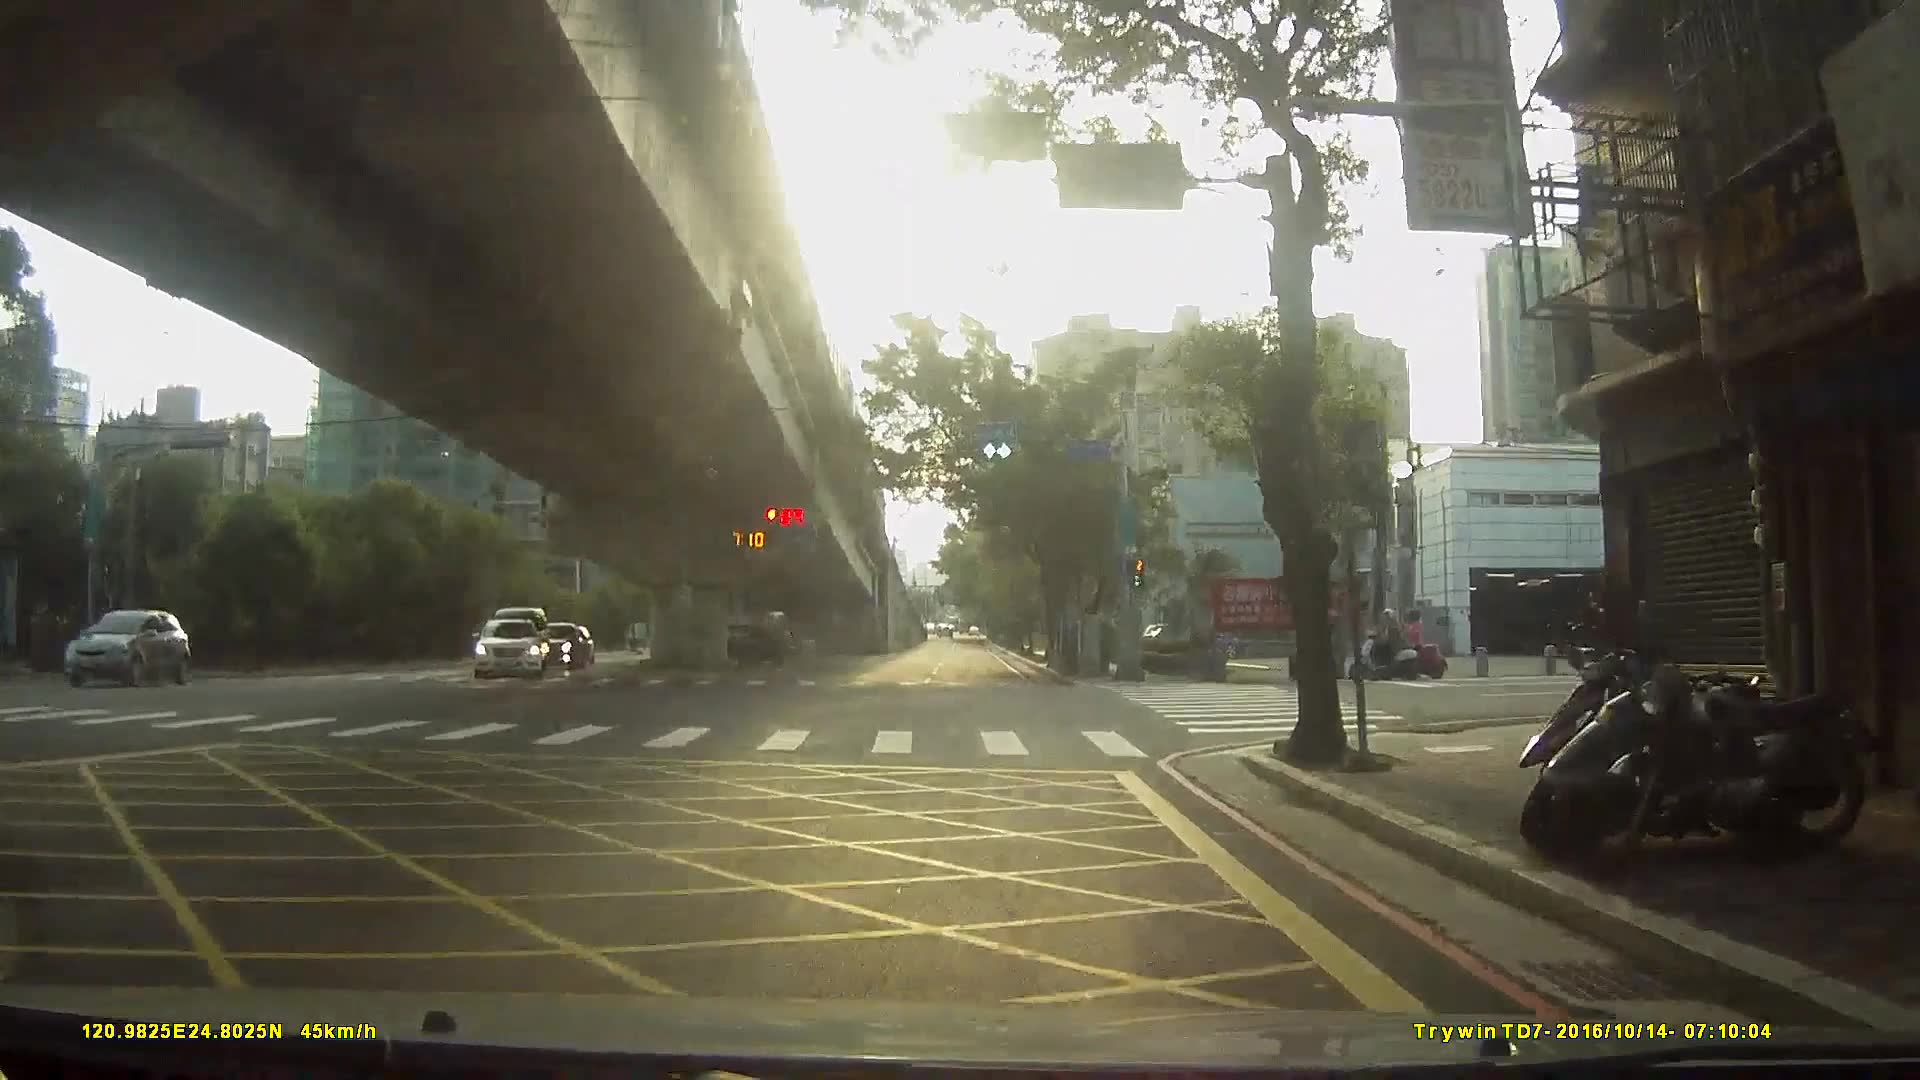rider: (1351, 606, 1423, 680)
vehicle: (45, 603, 198, 684), (465, 611, 541, 675), (698, 613, 789, 660), (525, 614, 585, 662)
